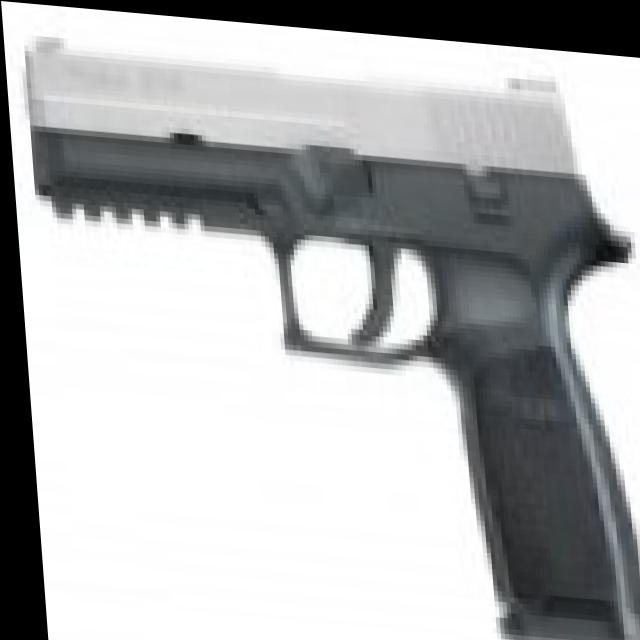handgun: (13, 16, 640, 640)
